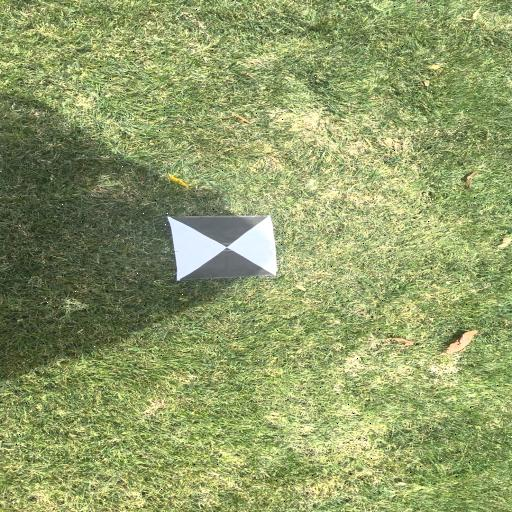target: (168, 215, 277, 279)
